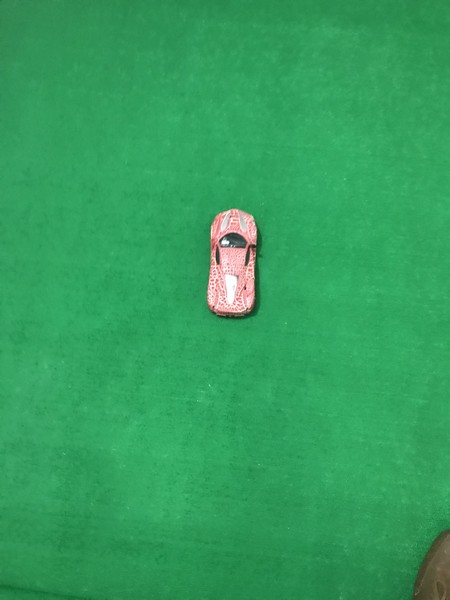RC: (205, 207, 262, 320)
